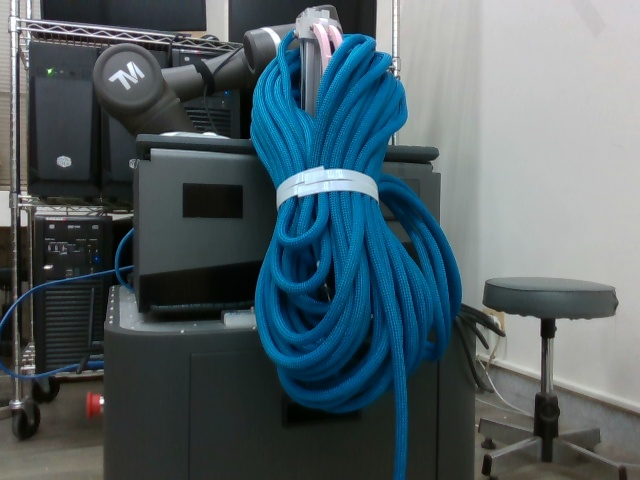rope: (250, 29, 466, 415)
